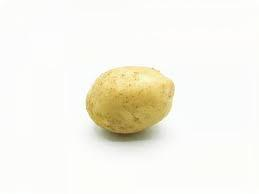non-mango: (84, 64, 175, 134)
